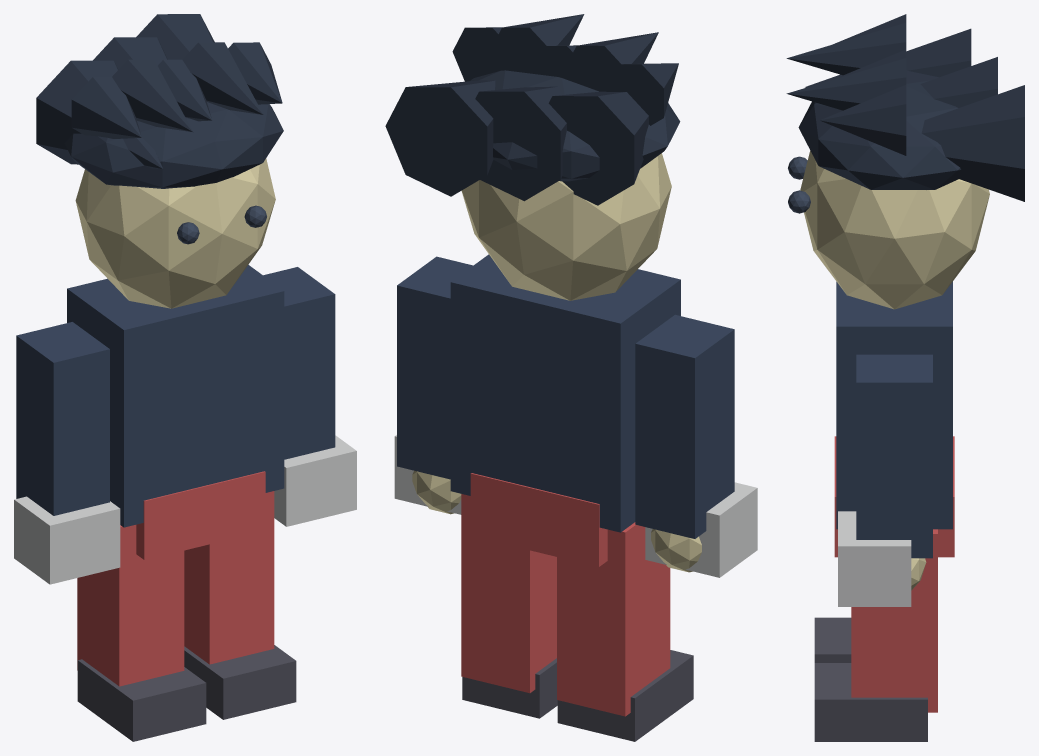
Rendered from shadow.glb.
The picture shows the model from 3 angles, left to right: view 1: azimuth 30°, elevation 25°; view 2: azimuth 150°, elevation 25°; view 3: azimuth 270°, elevation 25°; orthographic projection. The views are drawn at different scales.
Parts seen in each view (by area): view 1: part_000, part_010, part_002, part_004, part_008, part_013, part_006, part_001, part_022, part_005, part_009, part_023 (+8 smaller); view 2: part_000, part_002, part_010, part_004, part_008, part_006, part_021, part_001, part_019, part_020, part_013, part_005 (+10 smaller); view 3: part_010, part_006, part_000, part_008, part_013, part_021, part_009, part_023, part_018, part_015, part_017, part_020 (+4 smaller).
Part boxes in pixels (<box>): part_000: <box>67,265,284,527</box>; part_010: <box>75,158,275,308</box>; part_002: <box>16,322,109,515</box>; part_004: <box>77,525,184,686</box>; part_008: <box>184,491,274,664</box>; part_013: <box>64,102,283,188</box>; part_006: <box>263,267,335,459</box>; part_001: <box>136,471,265,560</box>; part_022: <box>14,496,120,584</box>; part_005: <box>77,659,206,741</box>; part_009: <box>184,645,296,719</box>; part_023: <box>274,435,356,526</box>; part_000: <box>450,254,680,532</box>; part_002: <box>635,314,734,538</box>; part_010: <box>461,153,671,300</box>; part_004: <box>557,522,670,716</box>; part_008: <box>461,494,556,693</box>; part_006: <box>397,256,472,479</box>; part_021: <box>385,80,495,196</box>; part_001: <box>470,473,607,566</box>; part_019: <box>548,91,648,205</box>; part_020: <box>475,86,566,201</box>; part_013: <box>470,70,680,181</box>; part_005: <box>557,650,693,741</box>; part_010: <box>800,150,989,309</box>; part_006: <box>856,354,932,558</box>; part_000: <box>836,281,952,529</box>; part_008: <box>851,529,937,712</box>; part_013: <box>798,70,960,189</box>; part_021: <box>921,85,1024,201</box>; part_009: <box>814,663,927,741</box>; part_023: <box>838,511,911,606</box>; part_018: <box>820,85,906,155</box>; part_015: <box>786,22,906,75</box>; part_017: <box>786,58,906,110</box>; part_020: <box>920,57,997,107</box>.
Bounding box in the file's own units: 0.9483 × 1.89 × 0.6221.
